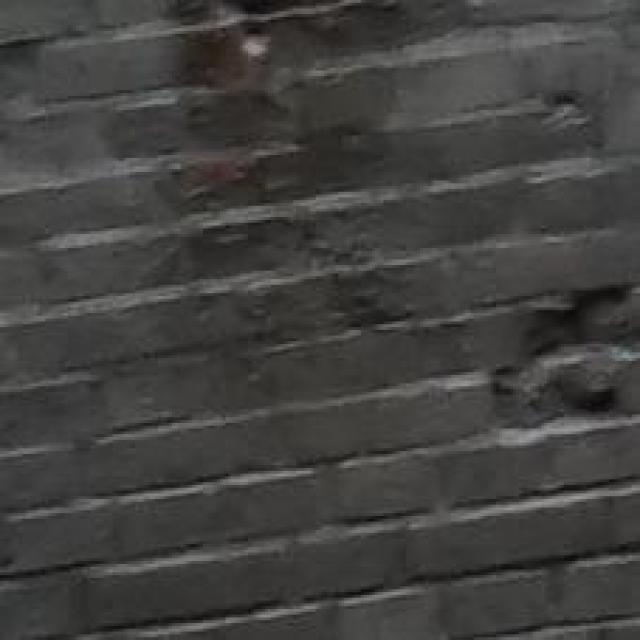Crack: (479, 262, 640, 533)
